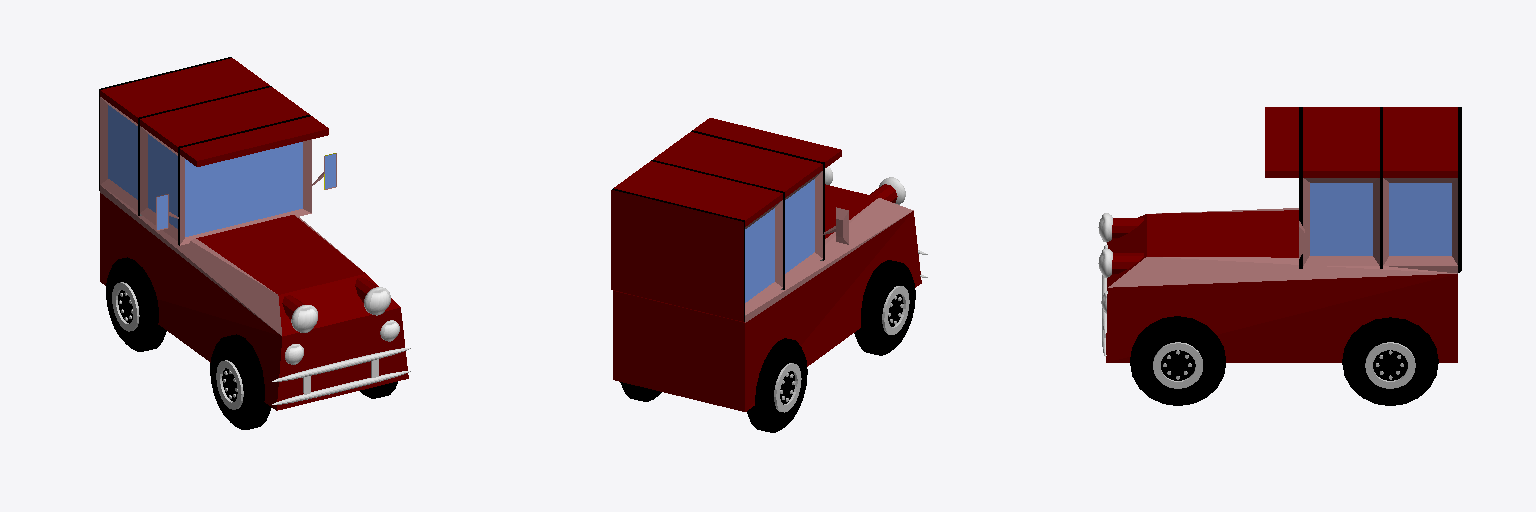
Rendered from car.obj.
3 views of the same model, side by side, from view 1: azimuth 30°, elevation 25°; view 2: azimuth 150°, elevation 25°; view 3: azimuth 270°, elevation 25° (orthographic).
Parts seen in each view (by area): view 1: polySurface5; view 2: polySurface5; view 3: polySurface5.
Boxes of the visible parts, <box> form: polySurface5: <box>99,57,410,429</box>; polySurface5: <box>611,118,927,432</box>; polySurface5: <box>1098,107,1461,405</box>.
Size of the model in its own units: 9.04 by 11.14 by 15.69.